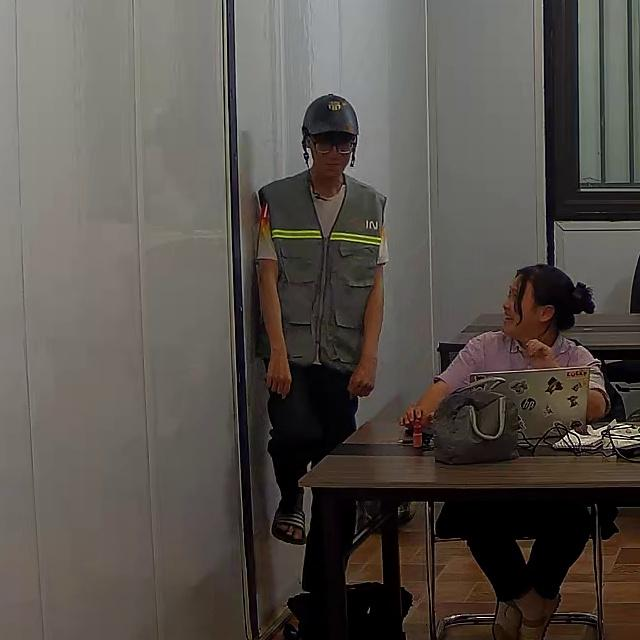helmet: (301, 93, 360, 135)
no_helmet: (514, 263, 595, 330)
none: (435, 329, 607, 407)
vest: (258, 175, 381, 366)
